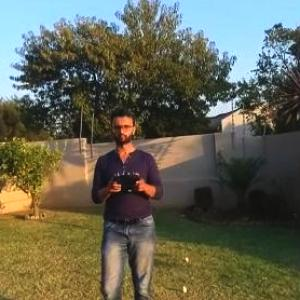follow: (85, 104, 169, 299)
